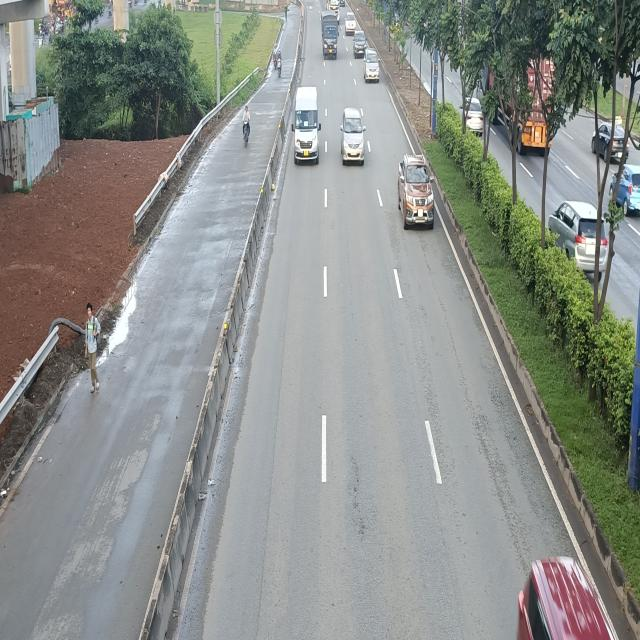car: (398, 158, 435, 231), (340, 108, 368, 166)
truck: (322, 12, 338, 61)
van: (290, 89, 320, 166)
